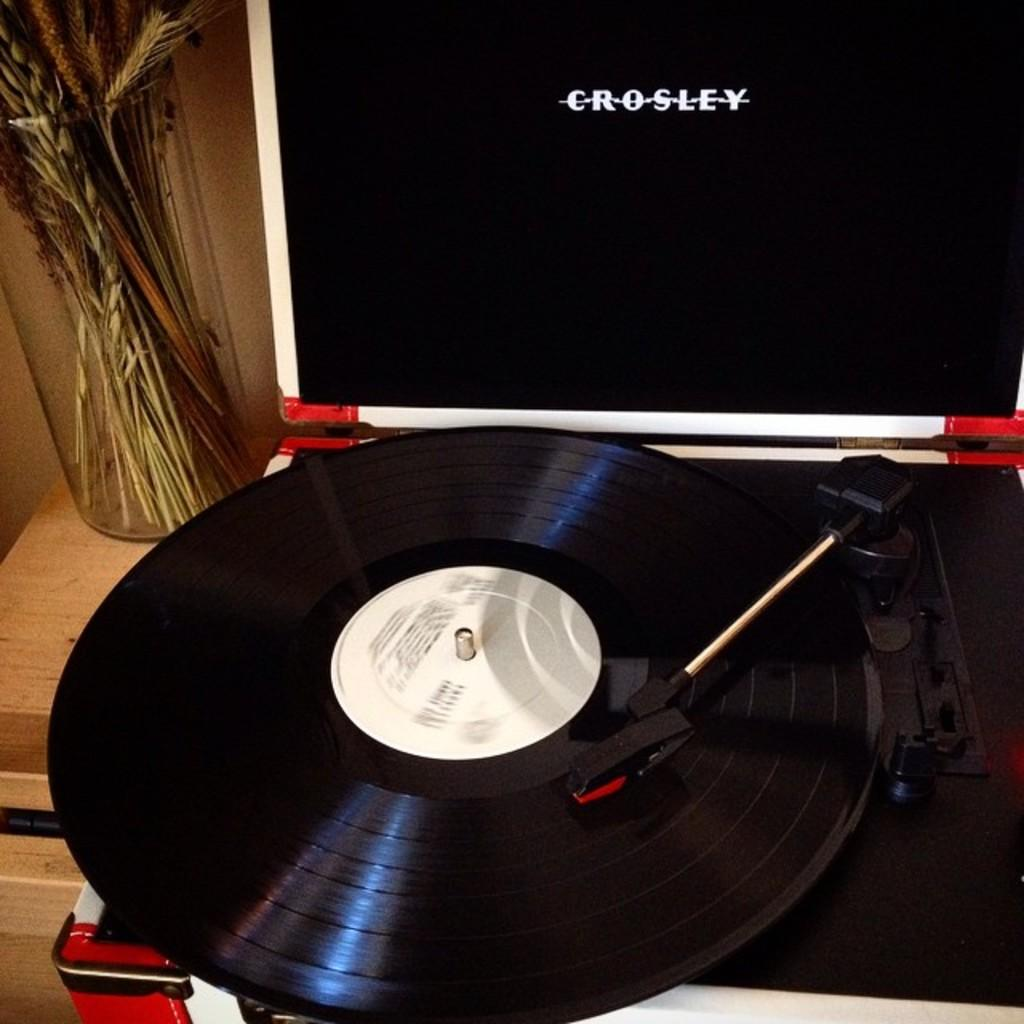Computer-monitor: (218, 0, 1002, 491)
